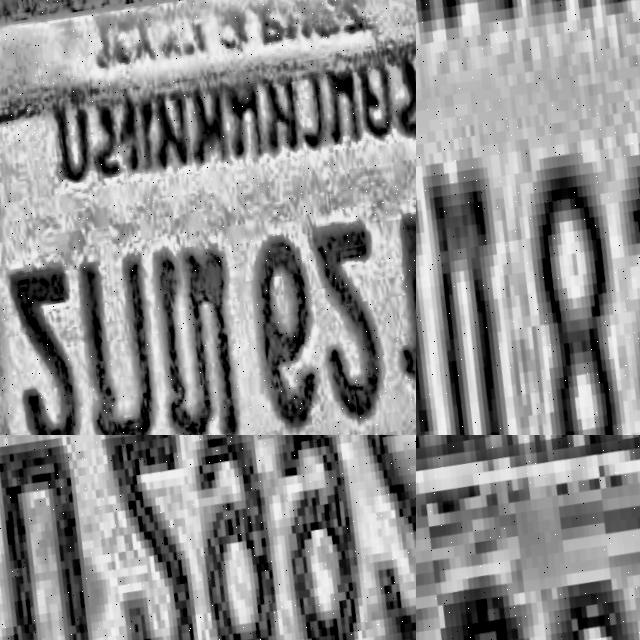license-plate: (0, 0, 416, 435), (416, 0, 640, 435), (0, 435, 416, 640), (416, 435, 640, 640)
